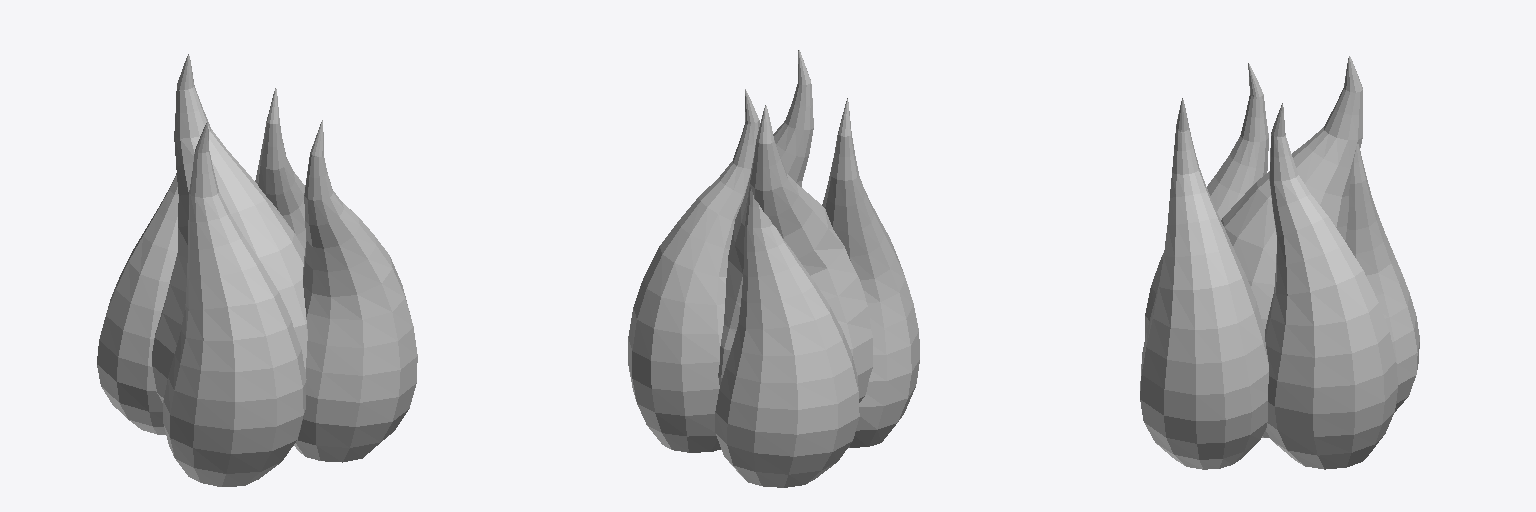
The model's file is fire_000064.obj.
The picture shows the model from 3 angles: view 1: azimuth 30°, elevation 25°; view 2: azimuth 150°, elevation 25°; view 3: azimuth 270°, elevation 25°; orthographic projection.
Parts seen in each view (by area): view 1: flame_NurbsPath.015; view 2: flame_NurbsPath.015; view 3: flame_NurbsPath.015.
Boxes of the visible parts, box(x1,y1,x2,y2) form: flame_NurbsPath.015: box(97, 54, 417, 486); flame_NurbsPath.015: box(628, 50, 919, 487); flame_NurbsPath.015: box(1140, 56, 1419, 469).
Size of the model in its own units: 0.7611 by 1.16 by 0.7987.